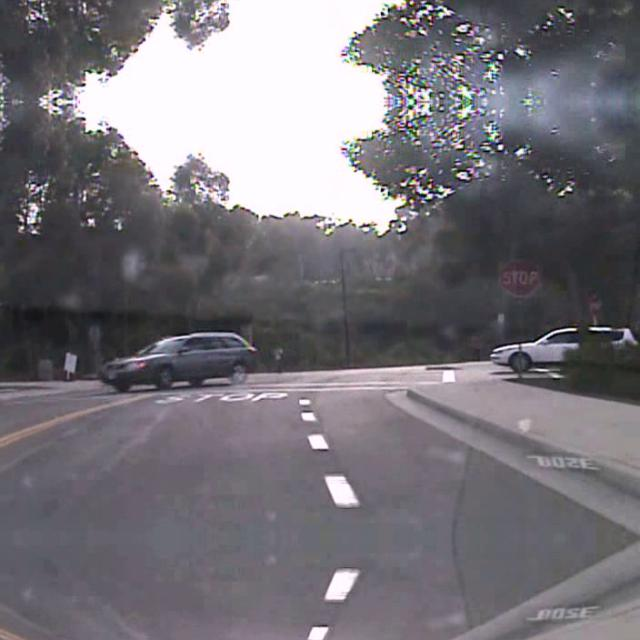stop: (498, 256, 540, 296)
